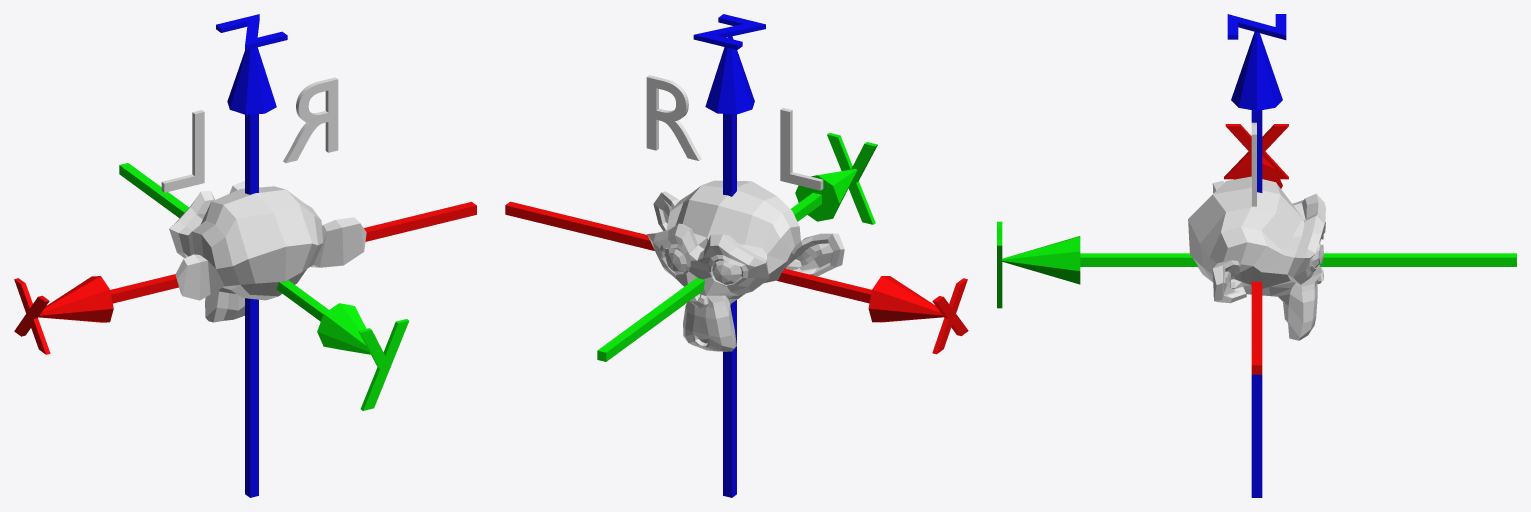
Rendered from Axis_Size_gizmo_geo.fbx.
3 views of the same model, side by side, from view 1: azimuth 30°, elevation 25°; view 2: azimuth 150°, elevation 25°; view 3: azimuth 270°, elevation 25° (orthographic).
Parts seen in each view (by area): view 1: Cube; view 2: Cube; view 3: Cube.
Part boxes in pixels (x1=…): Cube: x1=14, y1=14, x2=476, y2=497; Cube: x1=505, y1=14, x2=968, y2=497; Cube: x1=997, y1=14, x2=1516, y2=497.
Size of the model in its own units: 1 by 1 by 1.
